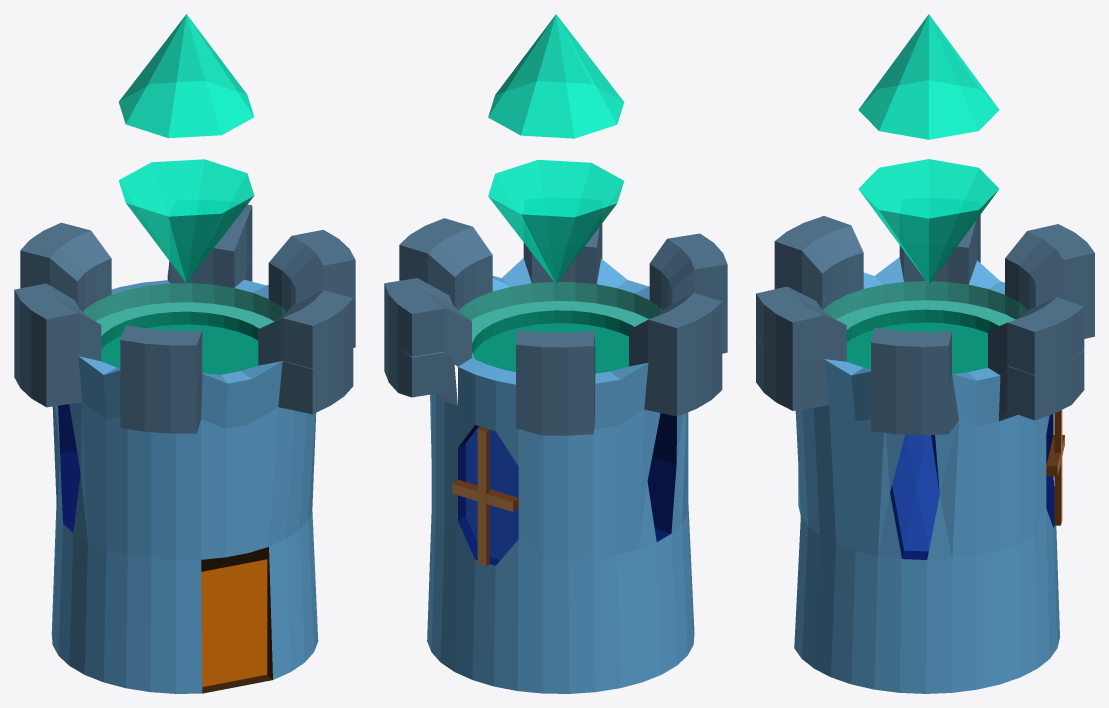
The model's file is mageTower.fbx.
3 renders of one model, left to right at view 1: azimuth 30°, elevation 25°; view 2: azimuth 150°, elevation 25°; view 3: azimuth 270°, elevation 25°, orthographic.
Parts seen in each view (by area): view 1: Cylinder, Cone.001, Cone; view 2: Cylinder, Cone, Cone.001; view 3: Cylinder, Cone, Cone.001.
Part boxes in pixels (left/top/right/bottom): Cylinder: left=14, top=204, right=355, bottom=693; Cone.001: left=118, top=159, right=254, bottom=283; Cone: left=119, top=14, right=254, bottom=138; Cylinder: left=384, top=218, right=727, bottom=693; Cone: left=488, top=14, right=624, bottom=138; Cone.001: left=488, top=159, right=623, bottom=283; Cylinder: left=756, top=215, right=1094, bottom=693; Cone: left=858, top=14, right=999, bottom=139; Cone.001: left=858, top=159, right=999, bottom=284.
Bounding box in the file's own units: 500 × 976 × 480.
